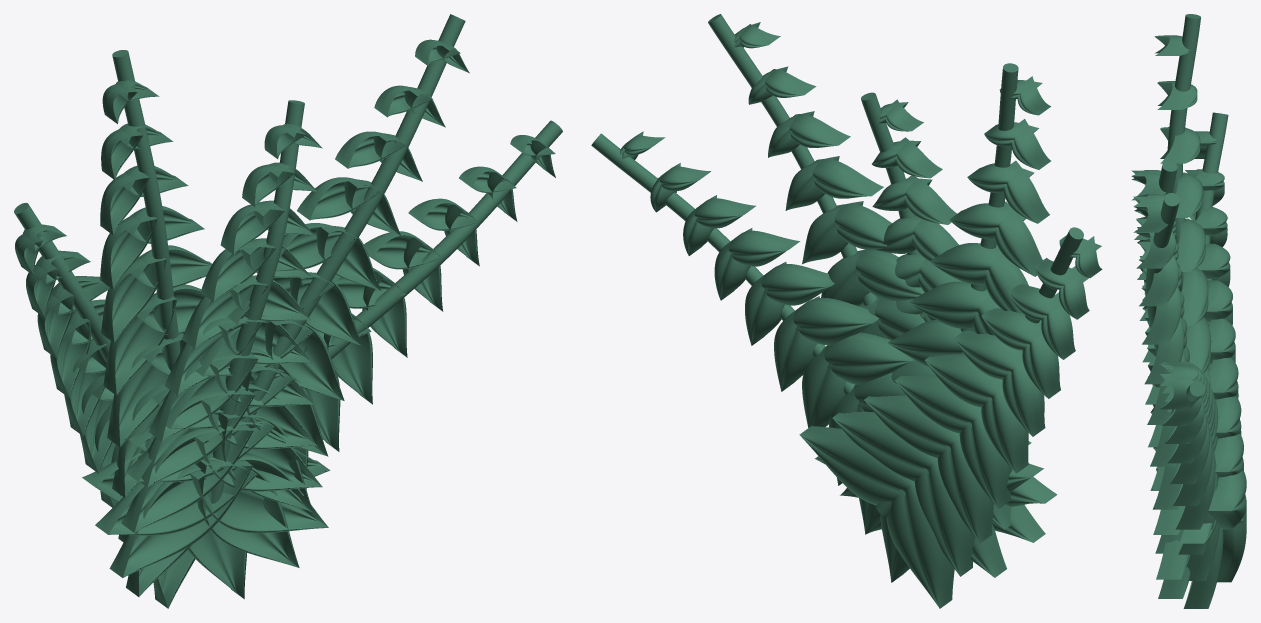
3 renders of one model, left to right at view 1: azimuth 30°, elevation 25°; view 2: azimuth 150°, elevation 25°; view 3: azimuth 270°, elevation 25°, orthographic. The views are drawn at different scales.
Visible parts, largest first — view 1: fern-stem (×5), leaflet-6--1 (×5), leaflet-0--1 (×5), leaflet-5--1 (×5), leaflet-0-1 (×3), leaflet-7--1 (×5), leaflet-4--1 (×4), leaflet-4-1 (×4), leaflet-3--1 (×3), leaflet-5-1 (×4), leaflet-2--1 (×3), leaflet-8--1 (×5) (+7 smaller); view 2: fern-stem (×5), leaflet-6--1 (×5), leaflet-5--1 (×5), leaflet-4-1 (×4), leaflet-5-1 (×5), leaflet-4--1 (×3), leaflet-0--1 (×4), leaflet-3-1 (×3), leaflet-7--1 (×5), leaflet-3--1 (×3), leaflet-6-1 (×5), leaflet-8--1 (×5) (+8 smaller); view 3: fern-stem (×5), leaflet-0-1 (×5), leaflet-5-1 (×4), leaflet-3-1 (×5), leaflet-4-1 (×5), leaflet-6-1 (×4), leaflet-7-1 (×4), leaflet-1-1 (×4), leaflet-2-1 (×4), leaflet-8-1 (×4), leaflet-9-1 (×5), leaflet-0--1 (+4 smaller).
Part boxes in pixels (x1,y1,x2,y2): fern-stem (×5): (14,14,562,503); leaflet-6--1 (×5): (50,177,441,398); leaflet-0--1 (×5): (82,453,257,608); leaflet-5--1 (×5): (64,223,405,436); leaflet-0-1 (×3): (187,454,328,599); leaflet-7--1 (×5): (37,131,478,358); leaflet-4--1 (×4): (80,272,334,473); leaflet-4-1 (×4): (137,272,372,404); leaflet-3--1 (×3): (107,320,313,447); leaflet-5-1 (×4): (130,225,407,357); leaflet-2--1 (×3): (112,364,293,497); leaflet-8--1 (×5): (26,85,516,317); fern-stem (×5): (591,14,1083,516); leaflet-6--1 (×5): (728,159,1060,398); leaflet-5--1 (×5): (761,204,1045,436); leaflet-4-1 (×4): (774,249,1002,407); leaflet-5-1 (×5): (745,201,1022,379); leaflet-4--1 (×3): (793,249,1028,473); leaflet-0--1 (×4): (886,477,1057,608); leaflet-3-1 (×3): (802,320,981,433); leaflet-7--1 (×5): (694,114,1075,359); leaflet-3--1 (×3): (824,298,1011,509); leaflet-6-1 (×5): (714,156,1042,350); leaflet-8--1 (×5): (660,69,1089,319); fern-stem (×5): (1144,14,1243,523); leaflet-0-1 (×5): (1156,470,1246,608); leaflet-5-1 (×4): (1144,219,1232,483); leaflet-3-1 (×5): (1148,318,1238,529); leaflet-4-1 (×5): (1145,268,1235,505); leaflet-6-1 (×4): (1142,173,1230,463); leaflet-7-1 (×4): (1139,127,1227,443); leaflet-1-1 (×4): (1153,433,1243,580); leaflet-2-1 (×4): (1150,384,1241,554); leaflet-8-1 (×4): (1136,81,1224,425); leaflet-9-1 (×5): (1131,35,1217,409); leaflet-0--1: (1217,507,1246,582).
Bounding box in the file's own units: 1.92 × 1.97 × 0.3795.
